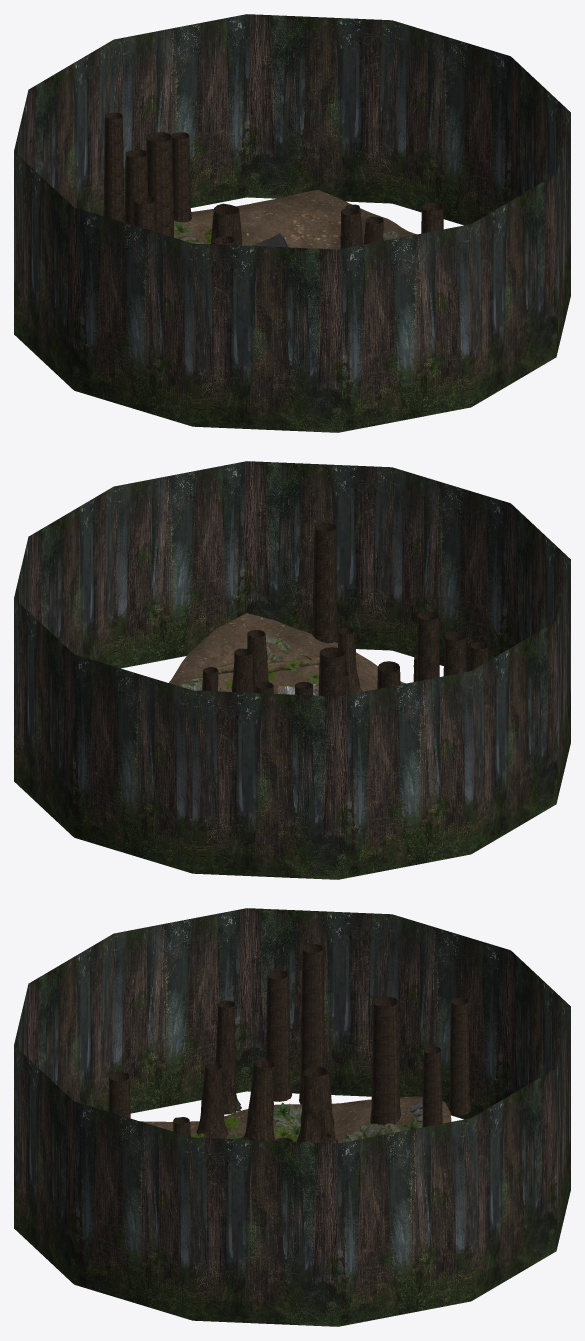
File: env_endor_bunkerexterior_pre.glb
3 views of the same model, one above another, from view 1: azimuth 30°, elevation 25°; view 2: azimuth 150°, elevation 25°; view 3: azimuth 270°, elevation 25° (orthographic).
Parts seen in each view (by area): view 1: end_forest_skybox_mesh, end_bunker_exterior_ground_mesh_test, end_tree_trunk_bg (1), end_tree_trunk_bg (5), end_tree_trunk_bg (6), end_tree_trunk_bg, end_tree_03, end_tree_01 (2), end_tree_trunk_bg (2), end_tree_trunk_bg (3); view 2: end_forest_skybox_mesh, end_bunker_exterior_ground_mesh_test, end_tree_trunk_bg (3), end_tree_trunk_bg, end_tree_trunk_bg (1), end_tree_trunk_bg (2), end_tree_01 (1), end_tree_01 (2), end_tree_02, end_log_03c, end_tree_01; view 3: end_forest_skybox_mesh, end_tree_trunk_bg (1), end_tree_trunk_bg, end_bunker_exterior_ground_mesh_test, end_tree_trunk_bg (2), end_tree_03, end_tree_trunk_bg (5), end_tree_01, end_tree_01 (3), end_tree_02 (2), end_tree_trunk_bg (6), end_tree_trunk_bg (3) (+1 smaller).
Part boxes in pixels (x1,y1,x2,y2): end_forest_skybox_mesh: (14,14,570,432); end_bunker_exterior_ground_mesh_test: (174,189,416,249); end_tree_trunk_bg (1): (146,132,173,237); end_tree_trunk_bg (5): (103,112,124,222); end_tree_trunk_bg (6): (171,132,191,222); end_tree_trunk_bg: (124,149,147,224); end_tree_03: (210,203,242,245); end_tree_01 (2): (340,207,361,248); end_tree_trunk_bg (2): (133,195,155,231); end_tree_trunk_bg (3): (421,202,443,233); end_forest_skybox_mesh: (14,461,570,879); end_bunker_exterior_ground_mesh_test: (169,613,405,693); end_tree_trunk_bg (3): (312,522,338,643); end_tree_trunk_bg: (416,611,439,681); end_tree_trunk_bg (1): (318,647,345,696); end_tree_trunk_bg (2): (443,631,466,676); end_tree_01 (1): (247,630,268,692); end_tree_01 (2): (232,648,253,692); end_tree_02: (338,627,362,694); end_log_03c: (215,653,319,675); end_tree_01: (377,661,400,688); end_forest_skybox_mesh: (14,908,570,1326); end_tree_trunk_bg (1): (370,996,401,1124); end_tree_trunk_bg: (299,943,324,1104); end_bunker_exterior_ground_mesh_test: (140,1096,451,1143); end_tree_trunk_bg (2): (266,970,291,1101); end_tree_03: (297,1066,338,1143); end_tree_trunk_bg (5): (448,997,471,1115); end_tree_01: (244,1059,275,1140); end_tree_01 (3): (215,1000,241,1114); end_tree_02 (2): (196,1063,228,1138); end_tree_trunk_bg (6): (422,1046,442,1127); end_tree_trunk_bg (3): (108,1072,130,1118).
Bounding box in the file's own units: 127 × 47.85 × 127.
24 materials, 24 textured.
